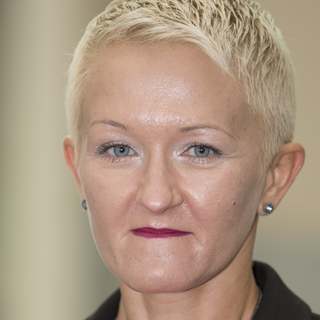eye: (176, 139, 225, 164), (94, 139, 142, 164)
